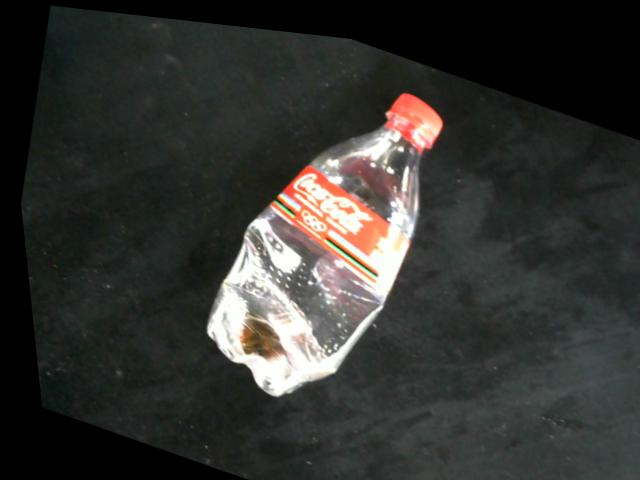bottle: (197, 82, 443, 394)
